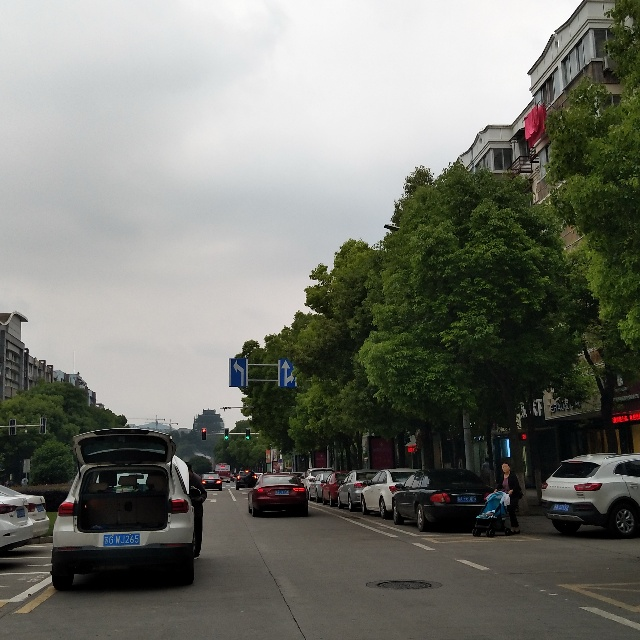left: (228, 358, 248, 387)
